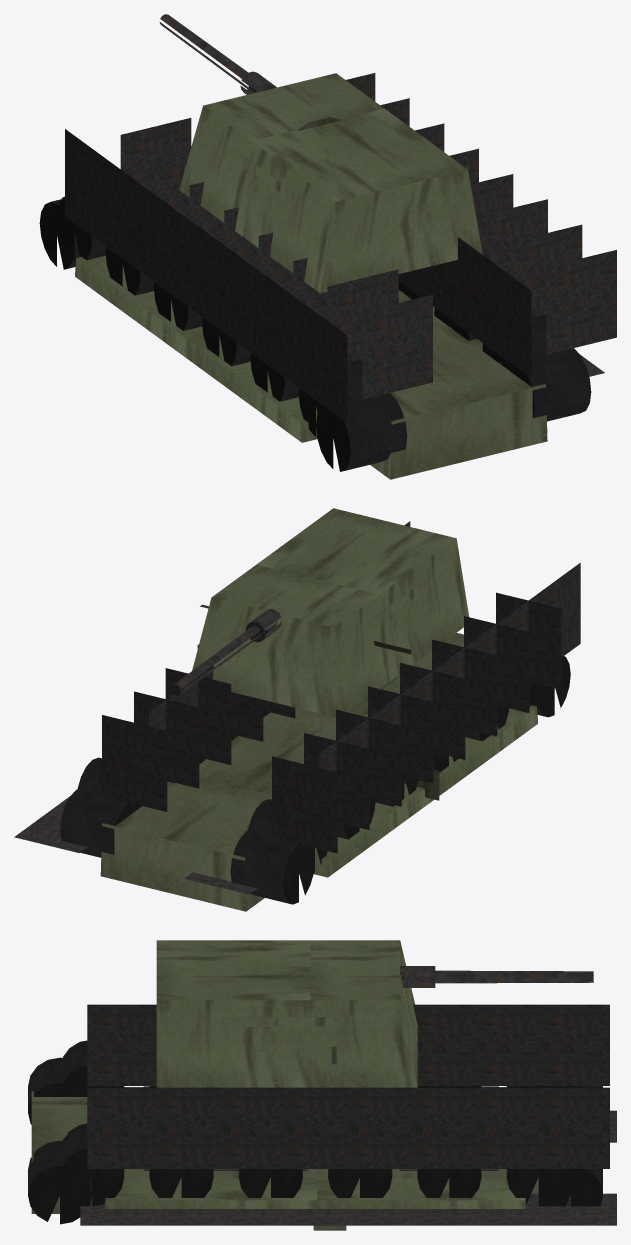
File: ct-medium.glb
3 views of the same model, one above another, from view 1: azimuth 30°, elevation 25°; view 2: azimuth 150°, elevation 25°; view 3: azimuth 270°, elevation 25° (orthographic). The views are drawn at different scales.
Parts seen in each view (by area): view 1: Turret, Hull, TrackL0, TrackR0, TrackR1, TrackR7, TrackL1, TrackR6, IdlerR, TrackR3, TrackL2, TrackR4 (+13 smaller); view 2: Turret, Hull, TrackL7, TrackR7, TrackR0, SprocketR, TrackR6, TrackL6, TrackR1, TrackR5, TrackR2, TrackR4 (+8 smaller); view 3: Turret, Hull, TrackL0, TrackL7, TrackL6, TrackL3, TrackL5, TrackL2, TrackL4, TrackL1, TrackR7, TrackR0 (+13 smaller).
Boxes of the visible parts, x1=… form: Turret: x1=179, y1=73, x2=482, y2=293; Hull: x1=75, y1=255, x2=547, y2=479; TrackL0: x1=490, y1=250, x2=616, y2=377; TrackR0: x1=306, y1=294, x2=432, y2=422; TrackR1: x1=272, y1=269, x2=398, y2=397; TrackR7: x1=65, y1=118, x2=191, y2=245; TrackL1: x1=456, y1=224, x2=582, y2=351; TrackR6: x1=99, y1=152, x2=189, y2=270; IdlerR: x1=316, y1=393, x2=407, y2=471; TrackR3: x1=203, y1=230, x2=293, y2=346; TrackL2: x1=421, y1=199, x2=547, y2=322; TrackR4: x1=168, y1=204, x2=258, y2=321; Turret: x1=192, y1=508, x2=469, y2=717; Hull: x1=100, y1=633, x2=537, y2=911; TrackL7: x1=14, y1=685, x2=186, y2=853; TrackR7: x1=184, y1=730, x2=351, y2=894; TrackR0: x1=496, y1=562, x2=580, y2=689; SprocketR: x1=230, y1=831, x2=314, y2=904; TrackR6: x1=304, y1=703, x2=388, y2=830; TrackL6: x1=46, y1=666, x2=212, y2=817; TrackR1: x1=464, y1=586, x2=548, y2=712; TrackR5: x1=336, y1=679, x2=420, y2=806; TrackR2: x1=432, y1=613, x2=510, y2=736; TrackR4: x1=368, y1=656, x2=452, y2=783; Turret: x1=156, y1=940, x2=417, y2=1087; Hull: x1=31, y1=1087, x2=538, y2=1230; TrackL0: x1=80, y1=1087, x2=169, y2=1225; TrackL7: x1=527, y1=1087, x2=616, y2=1225; TrackL6: x1=463, y1=1087, x2=552, y2=1225; TrackL3: x1=272, y1=1087, x2=361, y2=1225; TrackL5: x1=399, y1=1087, x2=489, y2=1225; TrackL2: x1=208, y1=1087, x2=297, y2=1225; TrackL4: x1=335, y1=1087, x2=425, y2=1225; TrackL1: x1=143, y1=1087, x2=233, y2=1225; TrackR7: x1=534, y1=1004, x2=616, y2=1142; TrackR0: x1=87, y1=1004, x2=156, y2=1085.
Bounding box in the file's own units: 4.1 × 2.79 × 7.12.
Materials: 3 (3 with a texture image).
